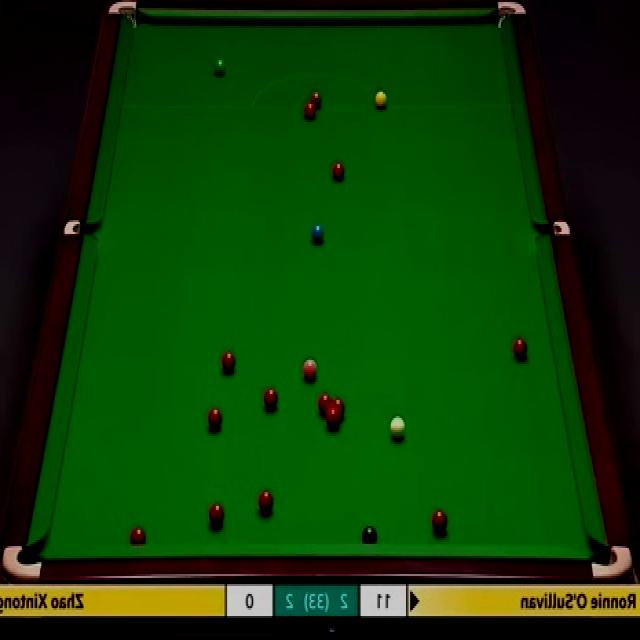black-ball: (361, 526, 378, 545)
blue-ball: (311, 222, 325, 245)
brown-ball: (310, 88, 324, 111)
green-ball: (213, 58, 228, 78)
pink-ball: (302, 354, 317, 382)
red-ball: (220, 349, 237, 378), (512, 336, 529, 363), (209, 503, 226, 529), (431, 509, 448, 534), (258, 489, 274, 515), (208, 405, 223, 430), (264, 387, 279, 412), (331, 159, 346, 182), (318, 394, 332, 418), (130, 526, 146, 545), (326, 410, 339, 430), (332, 398, 345, 418), (304, 102, 316, 121)
white-ball: (388, 414, 407, 446)
yellow-ball: (375, 89, 388, 109)
